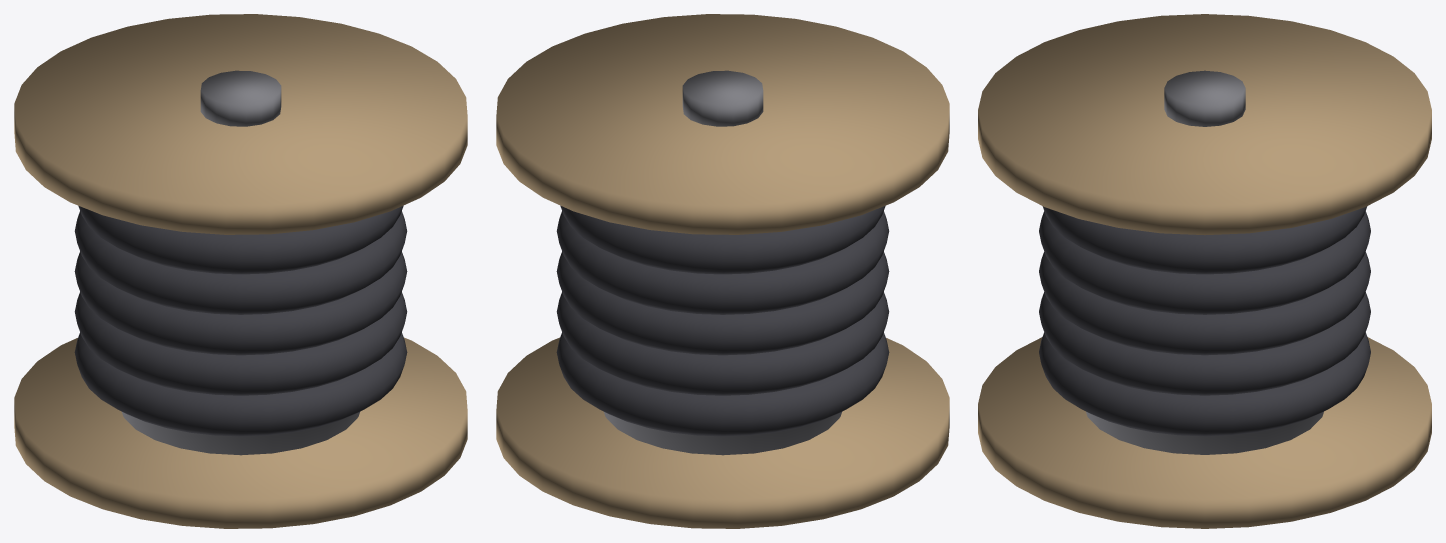
The model's file is cable_spool.glb.
3 renders of one model, left to right at view 1: azimuth 30°, elevation 25°; view 2: azimuth 150°, elevation 25°; view 3: azimuth 270°, elevation 25°, orthographic.
Visible parts, largest first — view 1: FlangeT, FlangeB, Wind0, Wind1, Wind2, Wind3, Wind4, AxleCap, Core; view 2: FlangeT, FlangeB, Wind0, Wind1, Wind2, Wind3, Wind4, AxleCap, Core; view 3: FlangeT, FlangeB, Wind0, Wind3, Wind1, Wind2, Wind4, AxleCap, Core.
Boxes of the visible parts, <box> form: FlangeT: <box>14,14,467,234</box>; FlangeB: <box>14,337,467,528</box>; Wind0: <box>74,332,407,436</box>; Wind1: <box>74,292,407,395</box>; Wind2: <box>74,251,407,355</box>; Wind3: <box>74,211,407,314</box>; Wind4: <box>78,205,403,274</box>; AxleCap: <box>200,70,281,126</box>; Core: <box>122,412,359,455</box>; FlangeT: <box>496,14,949,234</box>; FlangeB: <box>496,337,949,528</box>; Wind0: <box>556,332,889,436</box>; Wind1: <box>556,292,889,395</box>; Wind2: <box>556,251,889,355</box>; Wind3: <box>556,211,889,314</box>; Wind4: <box>560,205,885,274</box>; AxleCap: <box>682,70,763,126</box>; Core: <box>604,412,841,455</box>; FlangeT: <box>978,14,1431,235</box>; FlangeB: <box>978,337,1431,528</box>; Wind0: <box>1039,332,1370,436</box>; Wind3: <box>1039,211,1370,314</box>; Wind1: <box>1039,292,1370,395</box>; Wind2: <box>1039,252,1370,355</box>; Wind4: <box>1042,206,1367,274</box>; AxleCap: <box>1164,70,1245,126</box>; Core: <box>1086,411,1323,454</box>.
Size of the model in its own units: 0.56 by 0.47 by 0.56.
